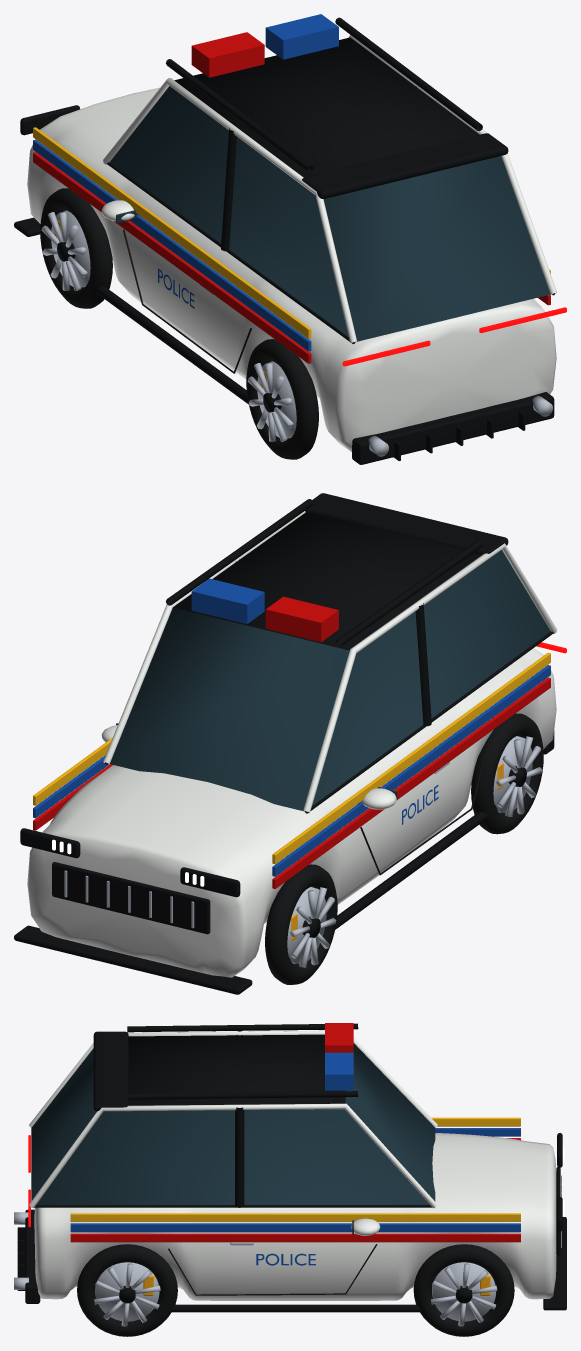
The model's file is police-classic-jeep.glb.
3 renders of one model, top to bottom at view 1: azimuth 30°, elevation 25°; view 2: azimuth 150°, elevation 25°; view 3: azimuth 270°, elevation 25°, orthographic. The views are drawn at different scales.
Parts seen in each view (by area): view 1: Surface_Glazing, Surface_Paint, Surface_Carbon, Tire, Tire.001, Surface_Blue_livery, Surface_Yellow_livery, Surface_Red_livery, Rim_lip.001, Rim_lip, beacon_red, beacon_blue (+2 smaller); view 2: Surface_Paint, Surface_Glazing, Surface_Carbon, Surface_Yellow_livery, Surface_Blue_livery, Tire.001, Surface_Red_livery, Tire, beacon_red, beacon_blue, Rim_lip, Rim_lip.001 (+1 smaller); view 3: Surface_Paint, Surface_Glazing, Surface_Carbon, Surface_Blue_livery, Surface_Yellow_livery, Surface_Red_livery, Tire.002, Tire.003, Rim_lip.003, Rim_lip.002, beacon_blue, beacon_red (+2 smaller).
Boxes of the visible parts, x1=… form: Surface_Glazing: x1=110, y1=86, x2=553, y2=342; Surface_Paint: x1=27, y1=35, x2=557, y2=451; Surface_Carbon: x1=14, y1=17, x2=555, y2=464; Tire: x1=246, y1=339, x2=318, y2=459; Tire.001: x1=40, y1=188, x2=112, y2=308; Surface_Blue_livery: x1=33, y1=139, x2=311, y2=351; Surface_Yellow_livery: x1=33, y1=127, x2=550, y2=338; Surface_Red_livery: x1=33, y1=152, x2=550, y2=363; Rim_lip.001: x1=41, y1=210, x2=90, y2=290; Rim_lip: x1=247, y1=361, x2=296, y2=441; beacon_red: x1=191, y1=32, x2=264, y2=77; beacon_blue: x1=265, y1=14, x2=338, y2=59; Surface_Paint: x1=27, y1=511, x2=557, y2=977; Surface_Glazing: x1=106, y1=550, x2=550, y2=811; Surface_Carbon: x1=14, y1=493, x2=554, y2=994; Surface_Yellow_livery: x1=33, y1=652, x2=550, y2=864; Surface_Blue_livery: x1=33, y1=665, x2=550, y2=876; Tire.001: x1=265, y1=864, x2=337, y2=984; Surface_Red_livery: x1=33, y1=677, x2=550, y2=888; Tire: x1=471, y1=713, x2=543, y2=834; beacon_red: x1=265, y1=596, x2=338, y2=641; beacon_blue: x1=191, y1=578, x2=264, y2=623; Rim_lip: x1=493, y1=736, x2=542, y2=817; Rim_lip.001: x1=287, y1=886, x2=336, y2=968; Surface_Paint: x1=29, y1=1030, x2=556, y2=1300; Surface_Glazing: x1=31, y1=1043, x2=435, y2=1234; Surface_Carbon: x1=17, y1=1023, x2=566, y2=1312; Surface_Blue_livery: x1=70, y1=1128, x2=520, y2=1265; Surface_Yellow_livery: x1=70, y1=1117, x2=520, y2=1221; Surface_Red_livery: x1=70, y1=1138, x2=520, y2=1242; Tire.002: x1=77, y1=1244, x2=177, y2=1336; Tire.003: x1=413, y1=1244, x2=514, y2=1336; Rim_lip.003: x1=430, y1=1262, x2=497, y2=1326; Rim_lip.002: x1=94, y1=1262, x2=160, y2=1326; beacon_blue: x1=325, y1=1052, x2=353, y2=1090; beacon_red: x1=325, y1=1023, x2=353, y2=1052.
Size of the model in its own units: 2.2 by 2.14 by 4.43.
